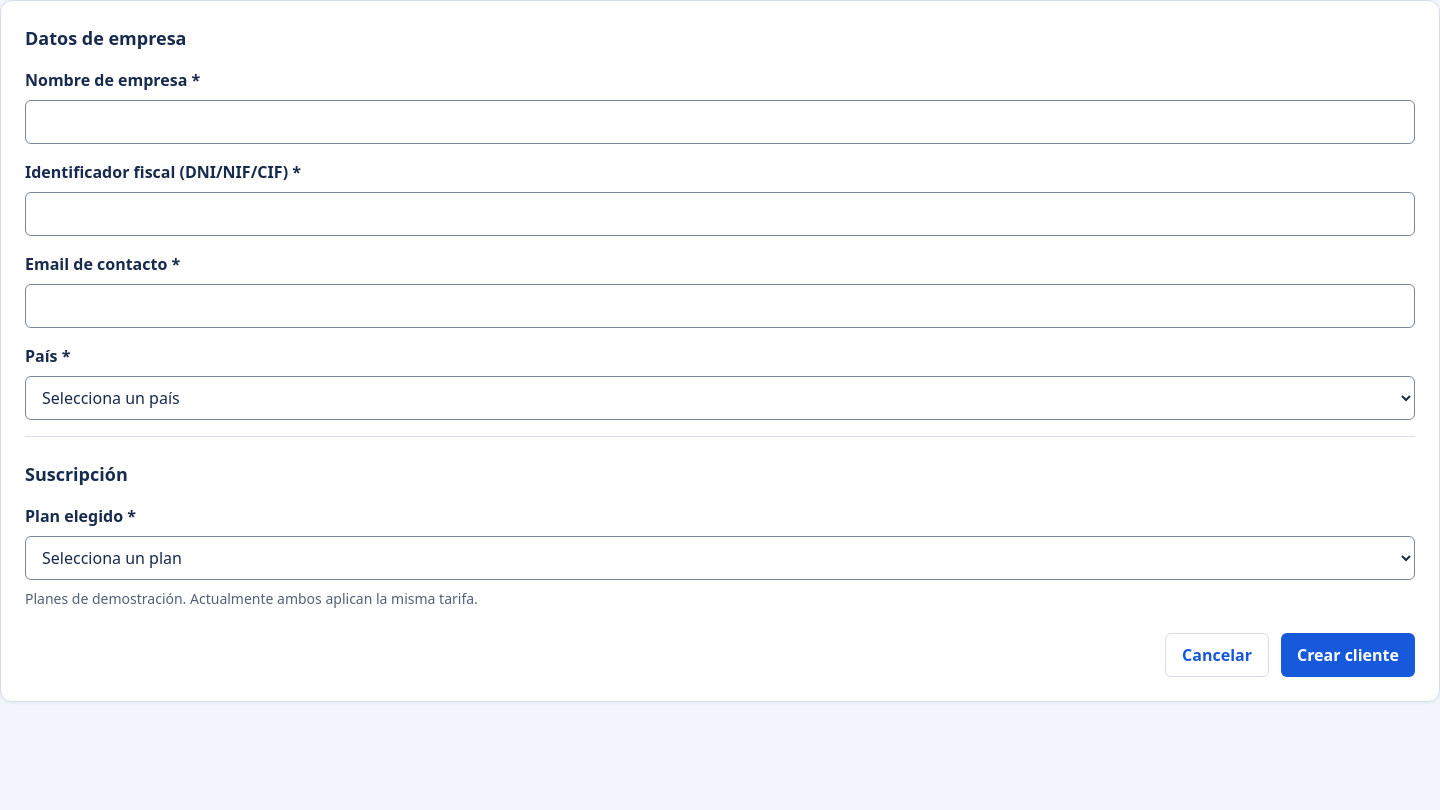
Test: WEB-FORM-01 › reports an uncertain network result without an automatic retry and offers lookup in another tab
Type "Empresa Nueva" into the field labelled "Nombre de empresa *".
click(720, 122); type("Empresa Nueva")  # box [25, 100, 1415, 144]
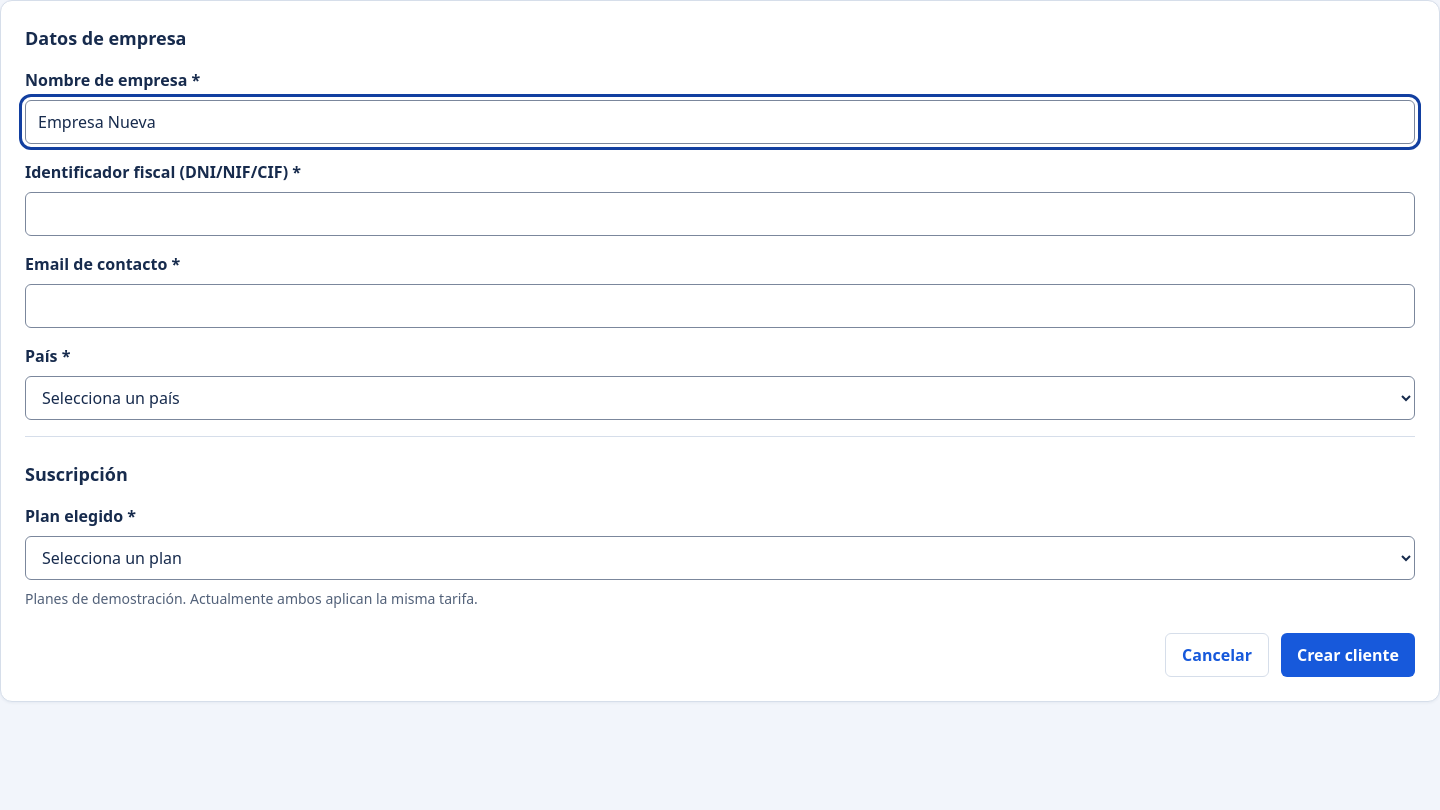
Type "12345678Z" into the field labelled "Identificador fiscal (DNI/NIF/CIF) *".
click(720, 214); type("12345678Z")  # box [25, 192, 1415, 236]
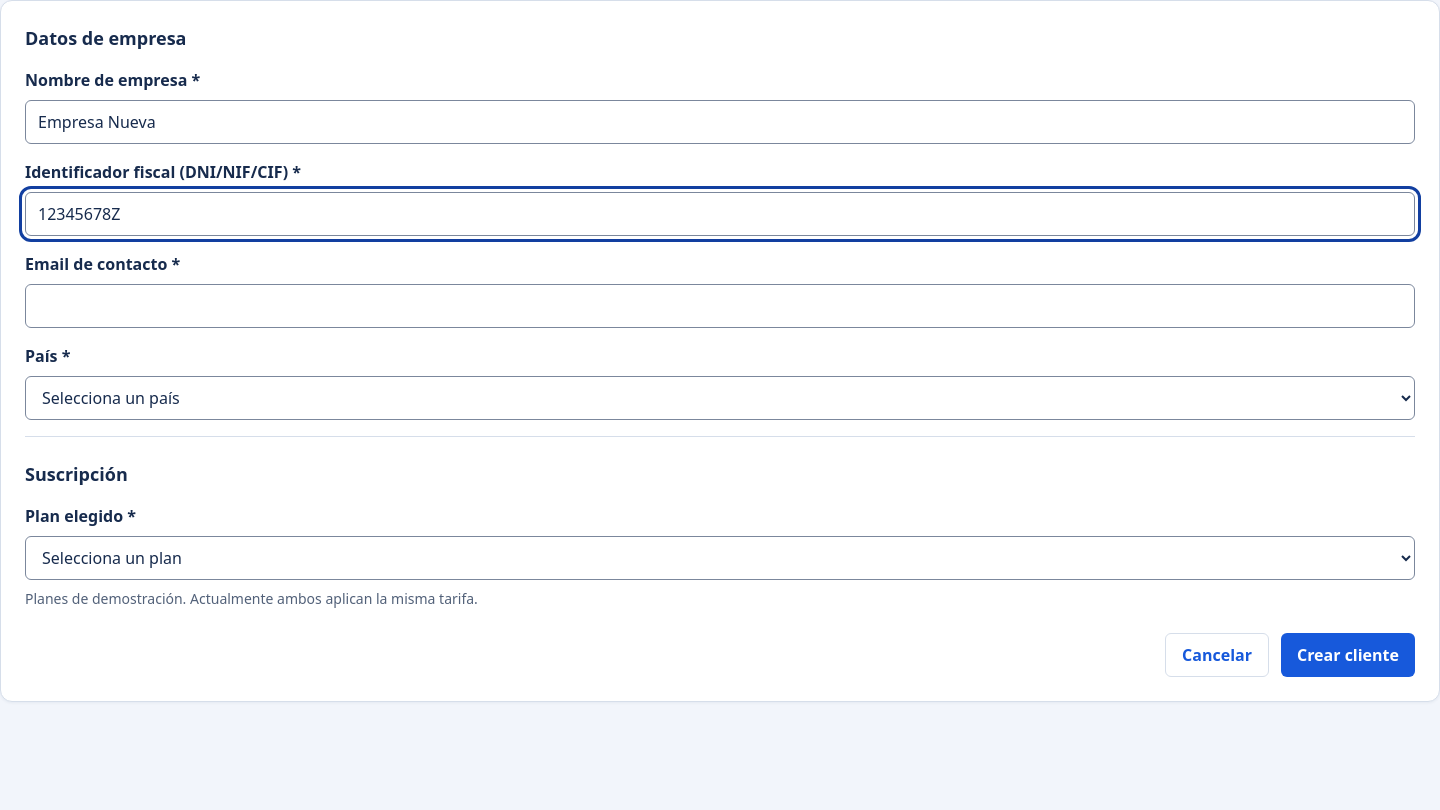
Type "nueva@example.invalid" into the field labelled "Email de contacto *".
click(720, 306); type("nueva@example.invalid")  # box [25, 284, 1415, 328]
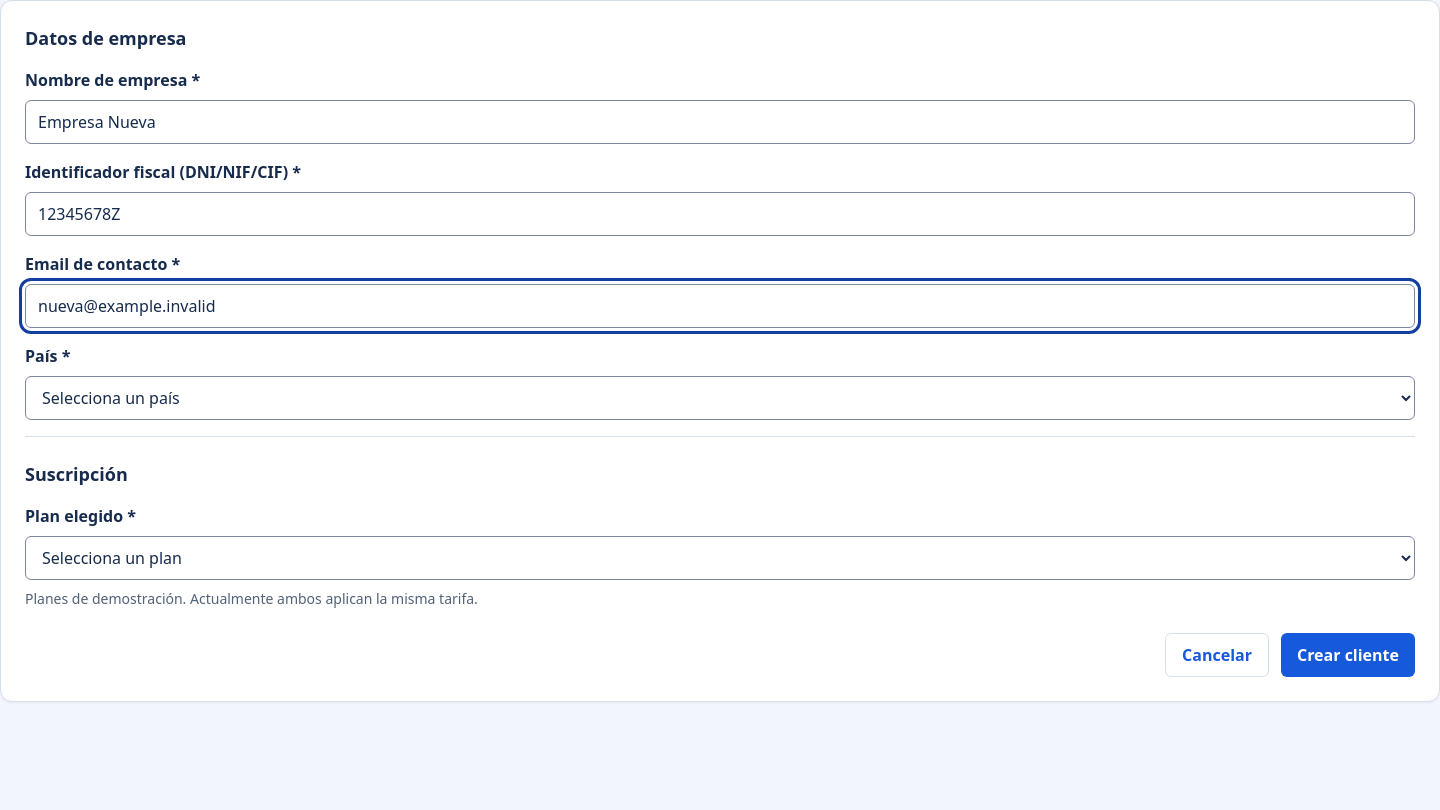
Select "España" in the dropdown labelled "País *" at (720, 398), box [25, 376, 1415, 420]
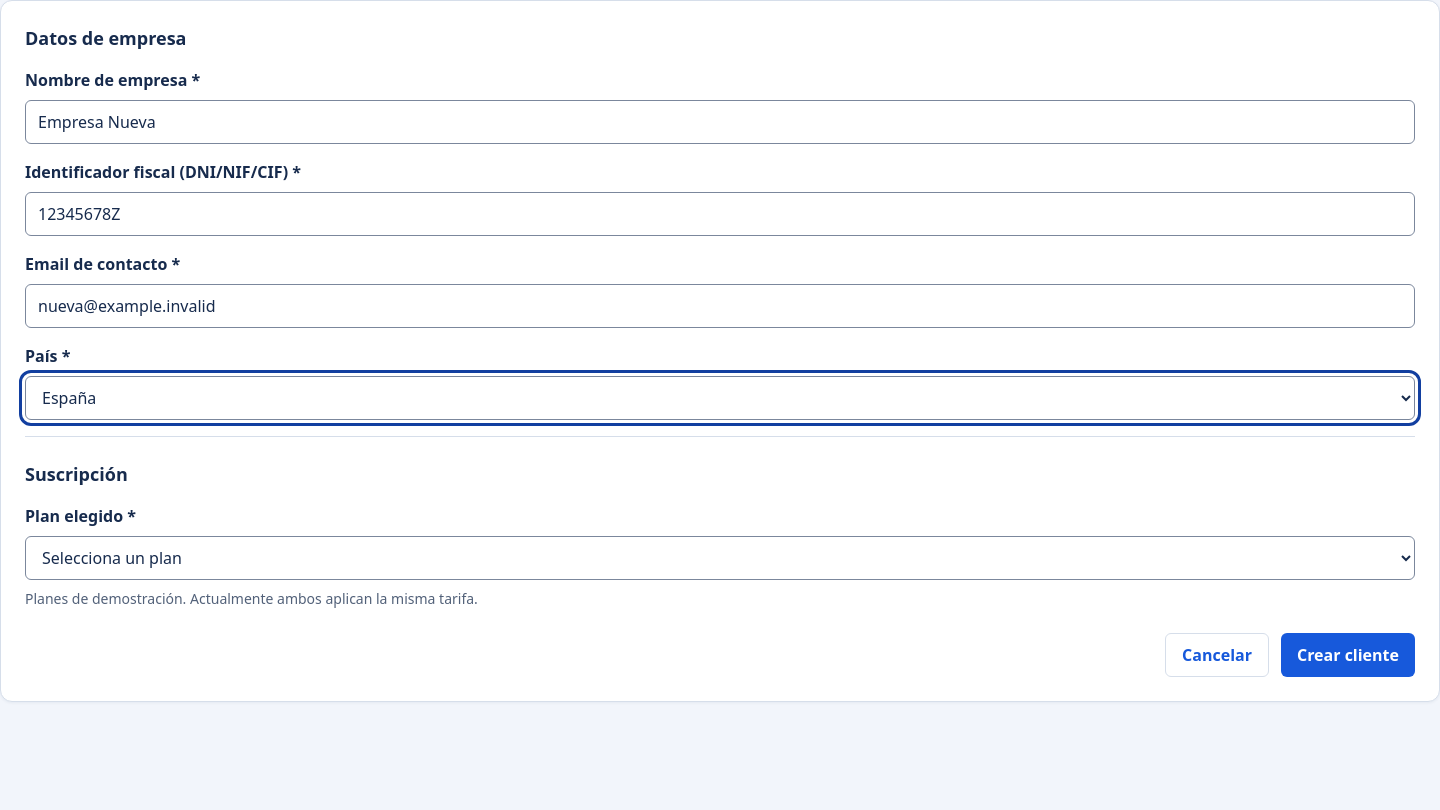
Select "Básico (demo)" in the dropdown labelled "Plan elegido *" at (720, 558), box [25, 536, 1415, 580]
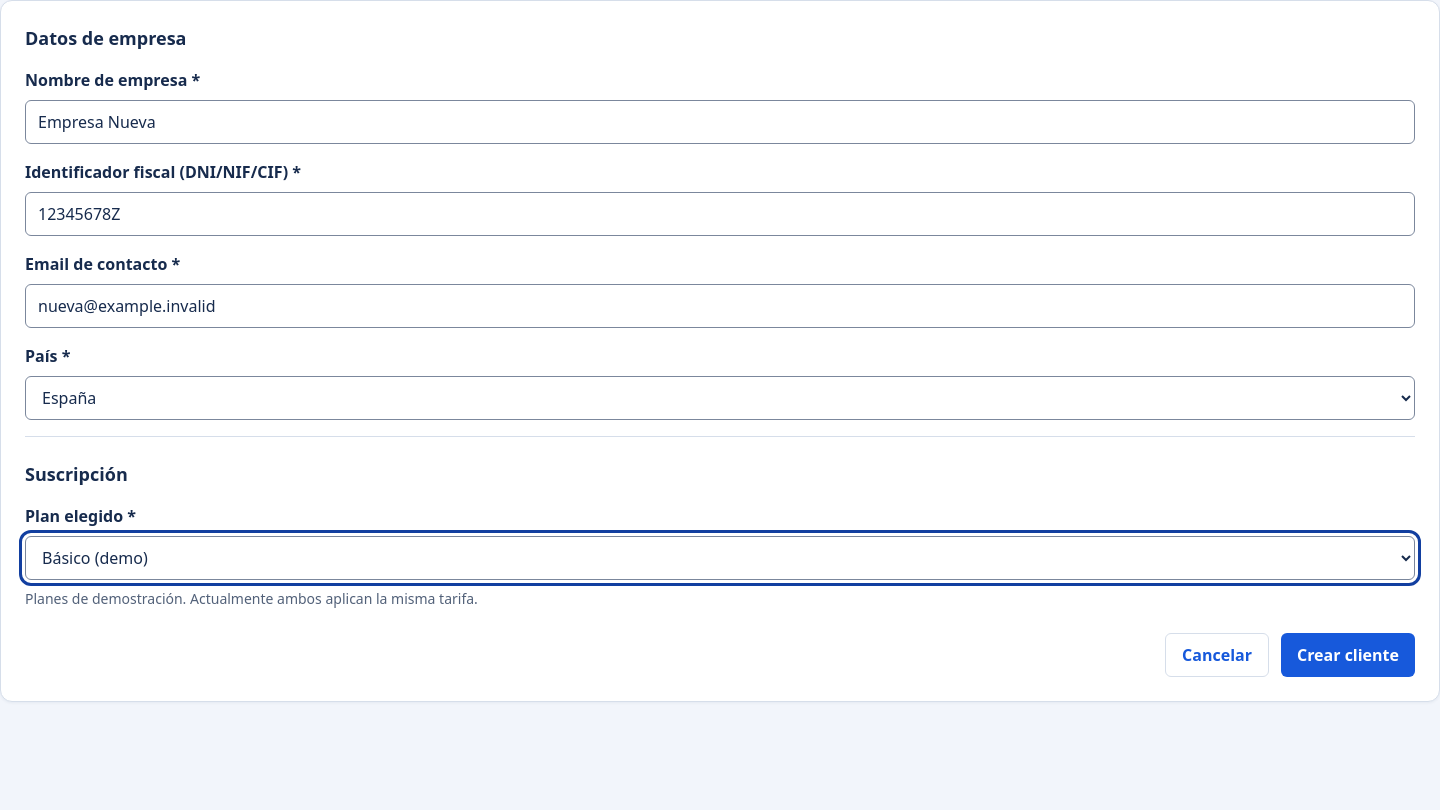
Submit the form
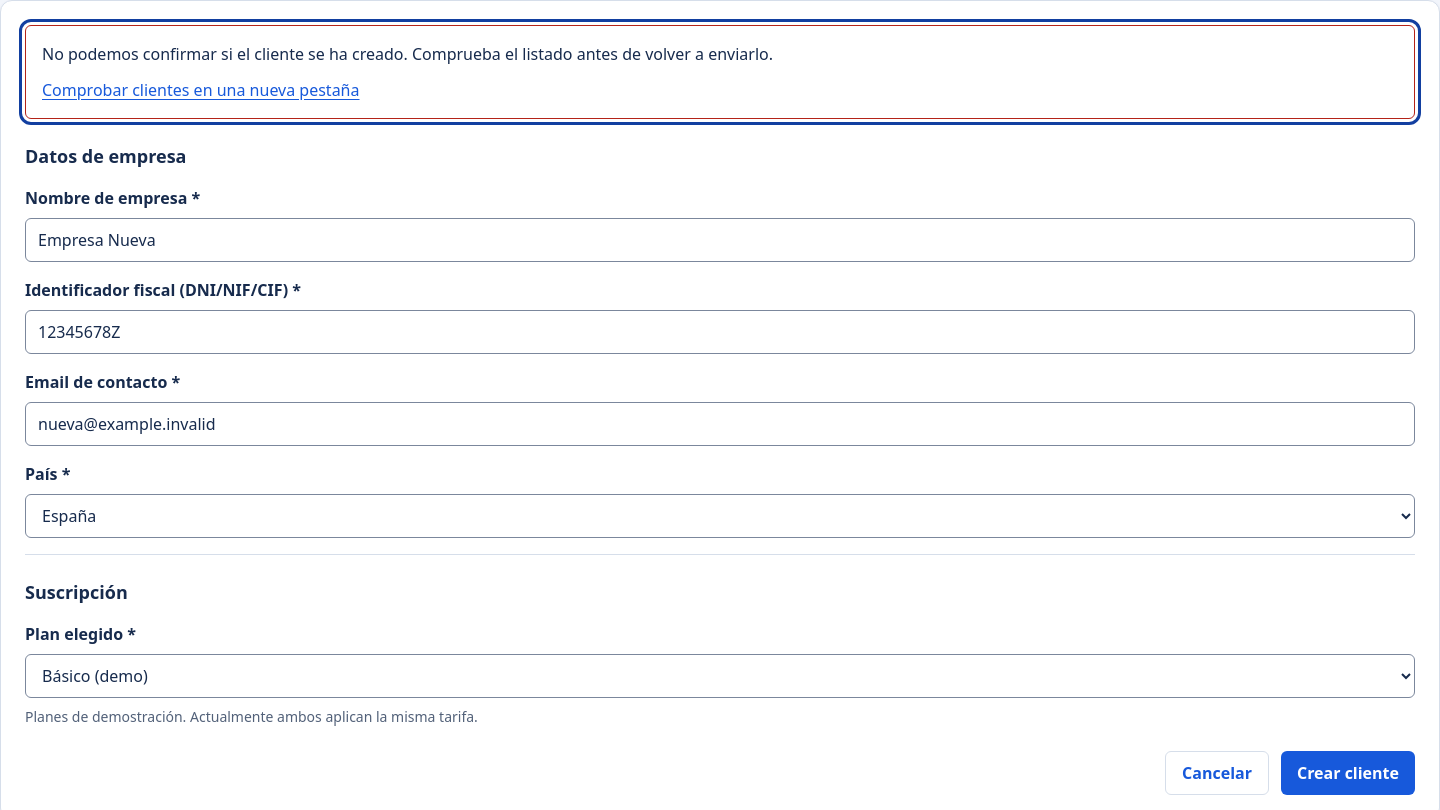
Check: the message shows "No podemos confirmar", box [42, 43, 773, 65]
